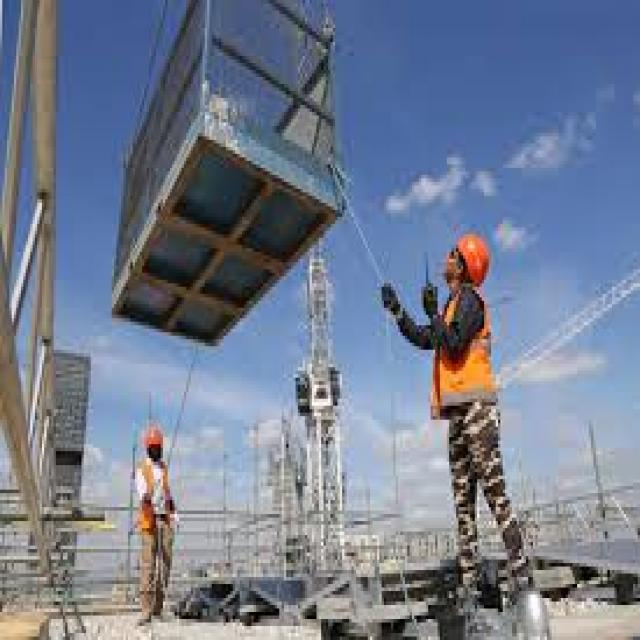Reflective-Jacket: (422, 286, 508, 426), (130, 455, 177, 542)
Safety-Helmet: (445, 224, 498, 294), (137, 416, 170, 458)
